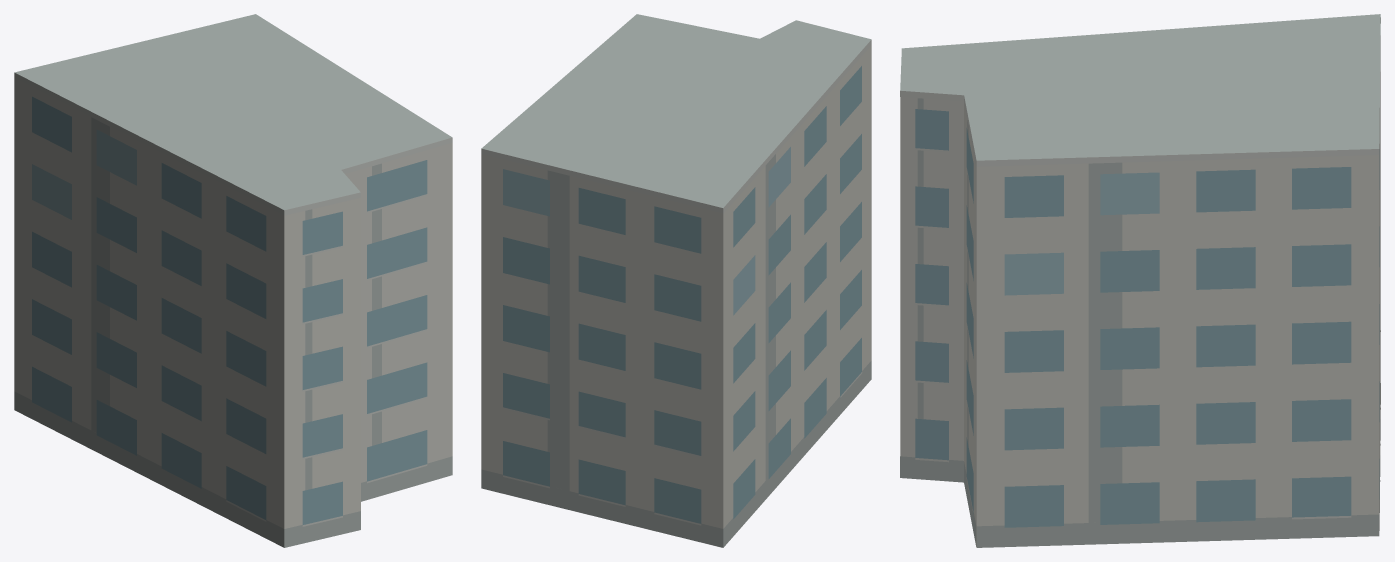
The model's file is survey-upis-32758433.glb.
3 views of the same model, side by side, from view 1: azimuth 30°, elevation 25°; view 2: azimuth 150°, elevation 25°; view 3: azimuth 270°, elevation 25° (orthographic). The views are drawn at different scales.
Visible parts, largest first — view 1: survey-upis-32758433.tmp; view 2: survey-upis-32758433.tmp; view 3: survey-upis-32758433.tmp.
Boxes of the visible parts, box(x1,y1,x2,y2) form: survey-upis-32758433.tmp: box(14, 14, 452, 547); survey-upis-32758433.tmp: box(481, 14, 871, 547); survey-upis-32758433.tmp: box(900, 14, 1380, 547).
Size of the model in its own units: 12.4 by 15.25 by 17.17.
